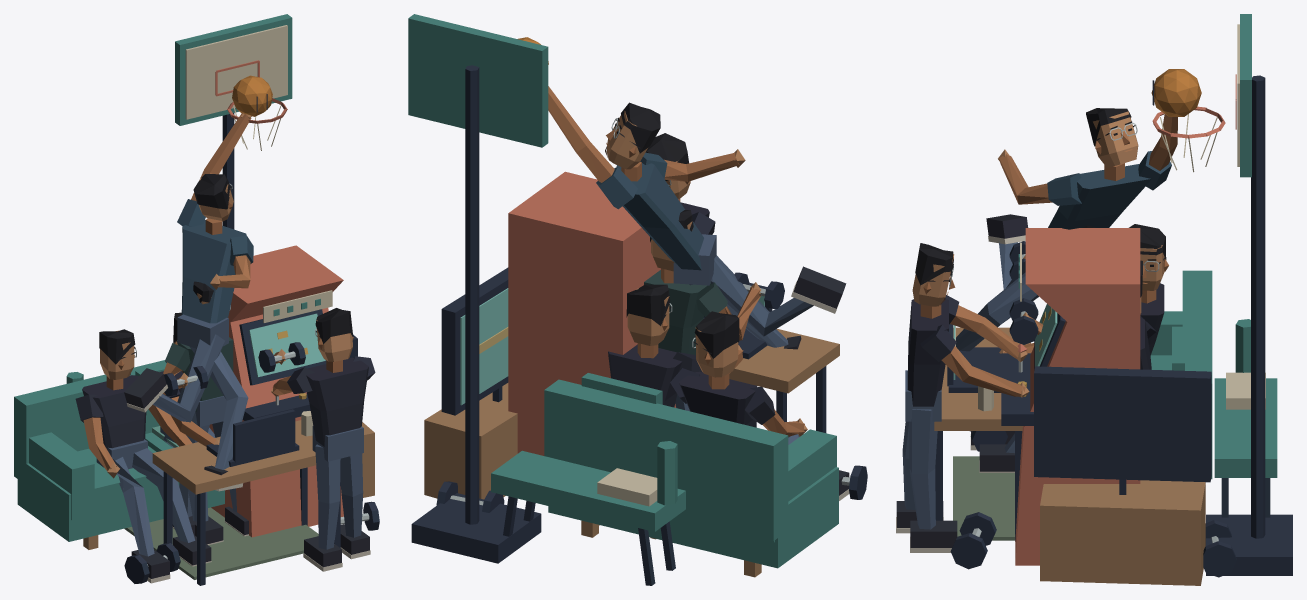
Rendered from personal-vignettes.glb.
The picture shows the model from 3 angles, left to right: view 1: azimuth 30°, elevation 25°; view 2: azimuth 150°, elevation 25°; view 3: azimuth 270°, elevation 25°; orthographic projection. The views are drawn at different scales.
Parts seen in each view (by area): view 1: activity-gaming, activity-basketball, activity-tv, activity-coding, activity-gym; view 2: activity-tv, activity-basketball, activity-gaming, activity-gym, activity-coding; view 3: activity-tv, activity-gaming, activity-basketball, activity-gym, activity-coding.
Part boxes in pixels (box(x1,y1,x2,y2)): activity-gaming: box(209, 245, 375, 571); activity-basketball: box(124, 14, 292, 491); activity-tv: box(14, 329, 374, 583); activity-coding: box(135, 312, 340, 585); activity-gym: box(66, 281, 379, 583); activity-tv: box(424, 267, 849, 577); activity-basketball: box(408, 14, 846, 563); activity-gaming: box(508, 133, 715, 455); activity-gym: box(436, 210, 867, 585); activity-coding: box(581, 282, 839, 539); activity-tv: box(970, 224, 1212, 585); activity-gaming: box(896, 228, 1140, 565); activity-basketball: box(956, 14, 1292, 575); activity-gym: box(950, 225, 1277, 577); activity-coding: box(934, 260, 1184, 541).
Bounding box in the file's own units: 2.38 × 3.23 × 2.29.
